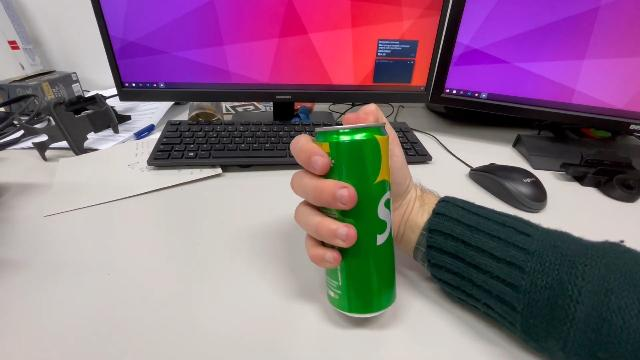Sprite: (310, 117, 400, 320)
